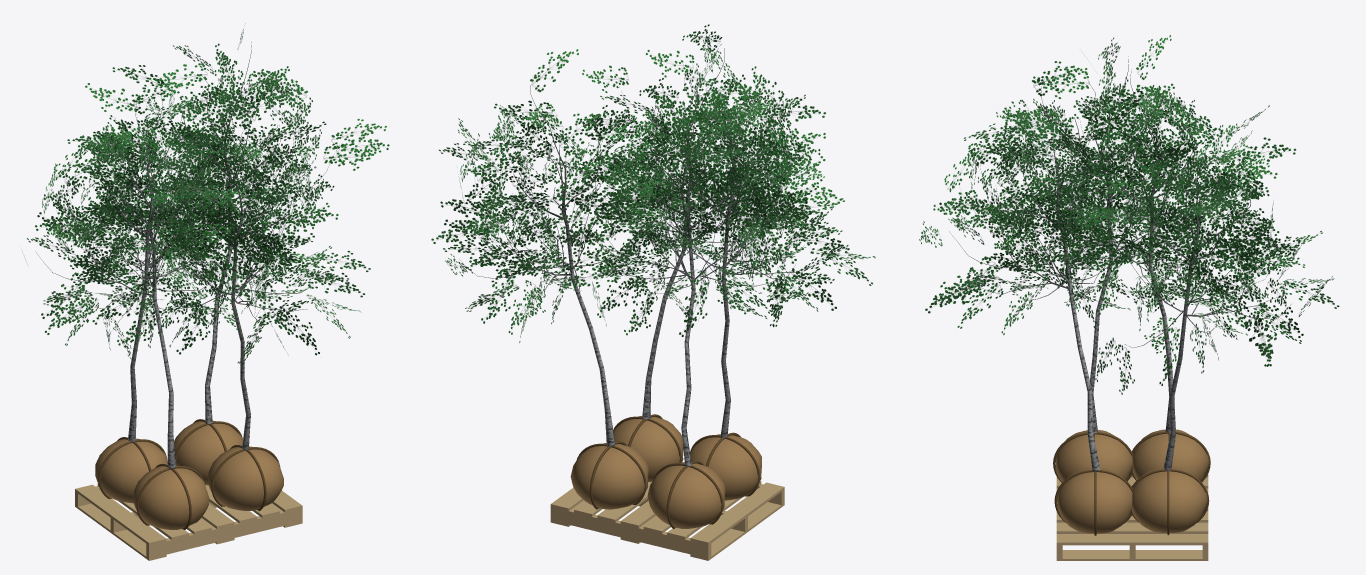
File: tree-bb-pallet.glb
3 views of the same model, side by side, from view 1: azimuth 30°, elevation 25°; view 2: azimuth 150°, elevation 25°; view 3: azimuth 270°, elevation 25° (orthographic). The views are drawn at different scales.
Visible parts, largest first — view 1: birch-3_leaves_03, birch-3_leaves_02, birch-3_leaves_00, birch-3_leaves_01, pallet, ball3, ball2, ball0, birch-3_bark_02, ball1, birch-3_bark_03, birch-3_bark_00 (+1 smaller); view 2: birch-3_leaves_01, birch-3_leaves_02, birch-3_leaves_00, birch-3_leaves_03, pallet, ball0, ball1, ball2, birch-3_bark_01, birch-3_bark_00, ball3, birch-3_bark_02 (+1 smaller); view 3: birch-3_leaves_01, birch-3_leaves_03, birch-3_leaves_00, birch-3_leaves_02, pallet, ball3, ball1, birch-3_bark_01, birch-3_bark_03, ball2, ball0, birch-3_bark_00 (+1 smaller).
Part boxes in pixels (x1,y1,x2,y2): birch-3_leaves_03: [91, 86, 365, 364]; birch-3_leaves_02: [22, 79, 244, 350]; birch-3_leaves_00: [53, 65, 286, 358]; birch-3_leaves_01: [103, 23, 389, 288]; pallet: [75, 483, 302, 560]; ball3: [208, 445, 283, 510]; ball2: [133, 463, 209, 529]; ball0: [95, 437, 167, 503]; birch-3_bark_02: [35, 101, 214, 468]; ball1: [174, 419, 242, 485]; birch-3_bark_03: [141, 127, 311, 450]; birch-3_bark_00: [104, 94, 262, 441]; birch-3_leaves_01: [431, 49, 671, 342]; birch-3_leaves_02: [597, 45, 875, 336]; birch-3_leaves_00: [552, 63, 834, 324]; birch-3_leaves_03: [567, 24, 841, 318]; pallet: [550, 462, 784, 560]; ball0: [647, 461, 725, 528]; ball1: [570, 441, 648, 509]; ball2: [690, 432, 761, 500]; birch-3_bark_01: [462, 85, 642, 446]; birch-3_bark_00: [609, 82, 782, 466]; ball3: [613, 414, 683, 482]; birch-3_bark_02: [642, 85, 819, 437]; birch-3_leaves_01: [1073, 100, 1339, 394]; birch-3_leaves_03: [919, 61, 1166, 335]; birch-3_leaves_00: [993, 35, 1279, 331]; birch-3_leaves_02: [979, 37, 1277, 306]; pallet: [1056, 474, 1208, 560]; ball3: [1054, 467, 1133, 535]; ball1: [1132, 467, 1209, 535]; birch-3_bark_01: [1124, 138, 1291, 470]; birch-3_bark_03: [949, 84, 1120, 471]; ball2: [1053, 430, 1133, 482]; ball0: [1131, 429, 1210, 482]; birch-3_bark_00: [1045, 69, 1236, 432].
Size of the model in its own units: 318 by 356 by 297.
Materials: 5 (2 with a texture image).
